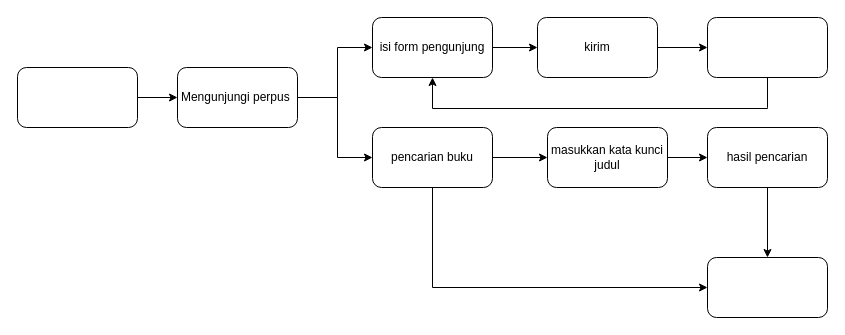
The diagram is 845 pixels wide and 335 high, and some of its shapes have lost their labels. The centre of each missing label's shape, as x and y in pixels:
"daftar kunjungan" belongs at point 767,47.
"lihat rinci buku" belongs at point 767,287.
"user" belongs at point 77,97.
